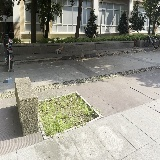fire: (59, 46, 64, 50)
